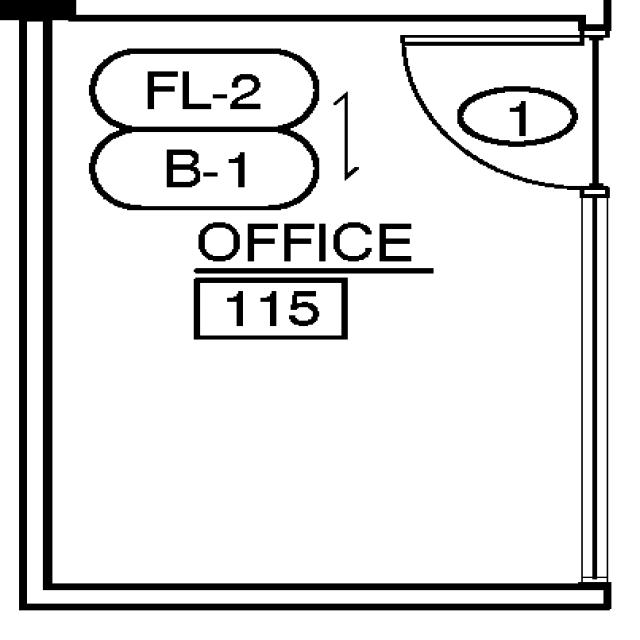Doors: (389, 30, 616, 199)
